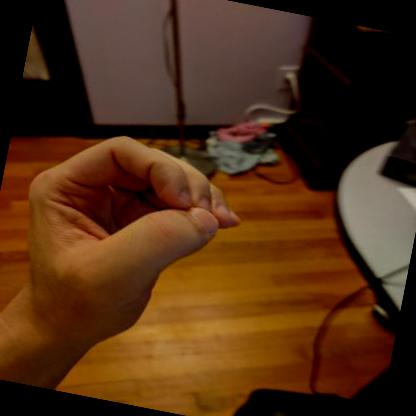O: (0, 135, 240, 342)
